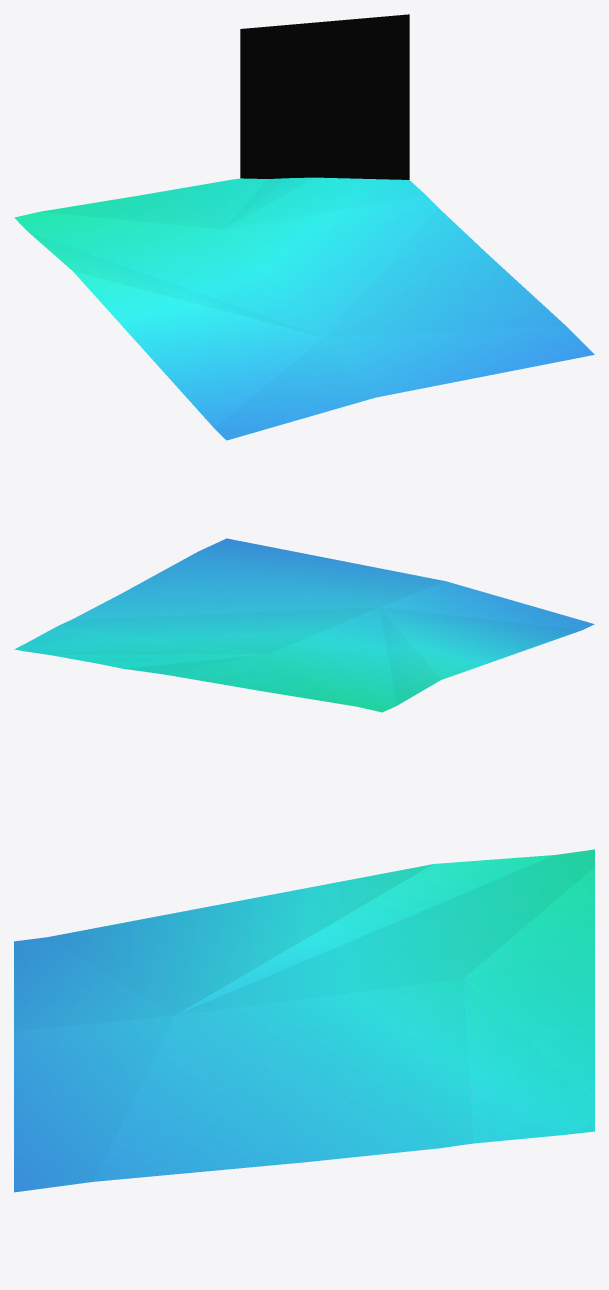
The picture shows the model from 3 angles, top to bottom: view 1: azimuth 30°, elevation 25°; view 2: azimuth 150°, elevation 25°; view 3: azimuth 270°, elevation 25°; orthographic projection. The views are drawn at different scales.
Bounding box in the file's own units: 13.06 × 9 × 13.06.
Materials: 3 (3 with a texture image).
